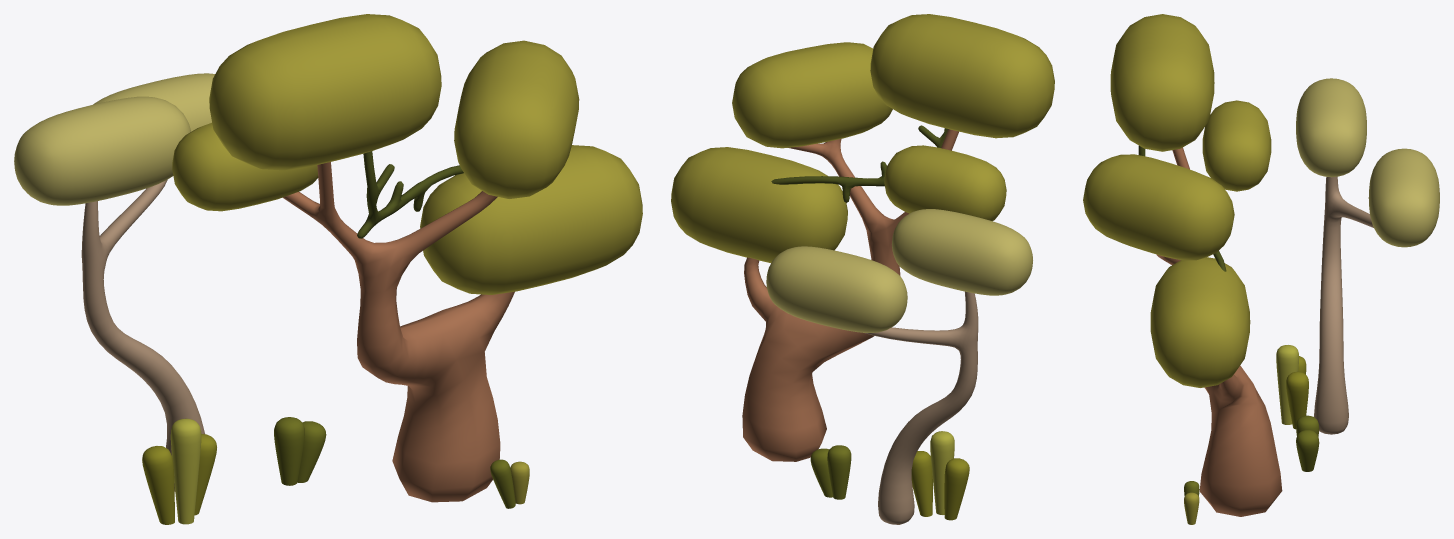
Rendered from Tree.gltf.
3 renders of one model, left to right at view 1: azimuth 30°, elevation 25°; view 2: azimuth 150°, elevation 25°; view 3: azimuth 270°, elevation 25°, orthographic. The views are drawn at different scales.
Visible parts, largest first — view 1: FoM_Intro_Tree-001; view 2: FoM_Intro_Tree-001; view 3: FoM_Intro_Tree-001.
Part boxes in pixels (bbox=[...]): FoM_Intro_Tree-001: bbox=[14, 14, 642, 524]; FoM_Intro_Tree-001: bbox=[671, 14, 1054, 524]; FoM_Intro_Tree-001: bbox=[1083, 14, 1439, 524].
Size of the model in its own units: 2 by 1.97 by 1.55.
1 material, 1 textured.
